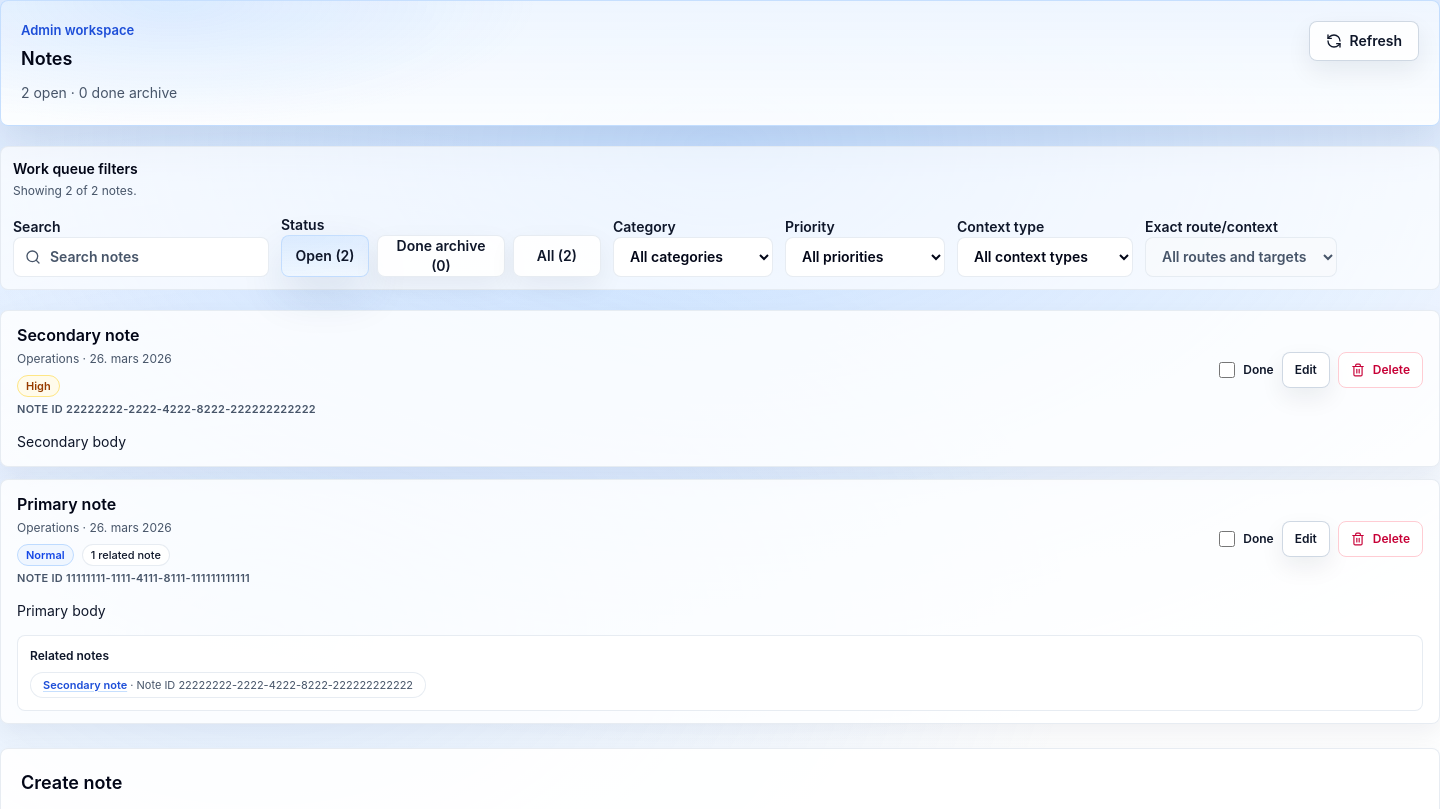
it: AdminNotesManager related note links › lets admins jump to a linked note by clicking only the linked title
The width and height of the screenshot is (1440, 809).
Expected: the list item with test id "admin-note-item" that starts with "Primary note" is shown, x1=0 y1=478 x2=1439 y2=724
Click the button "Secondary note" at (85, 685), box x1=43 y1=676 x2=127 y2=693
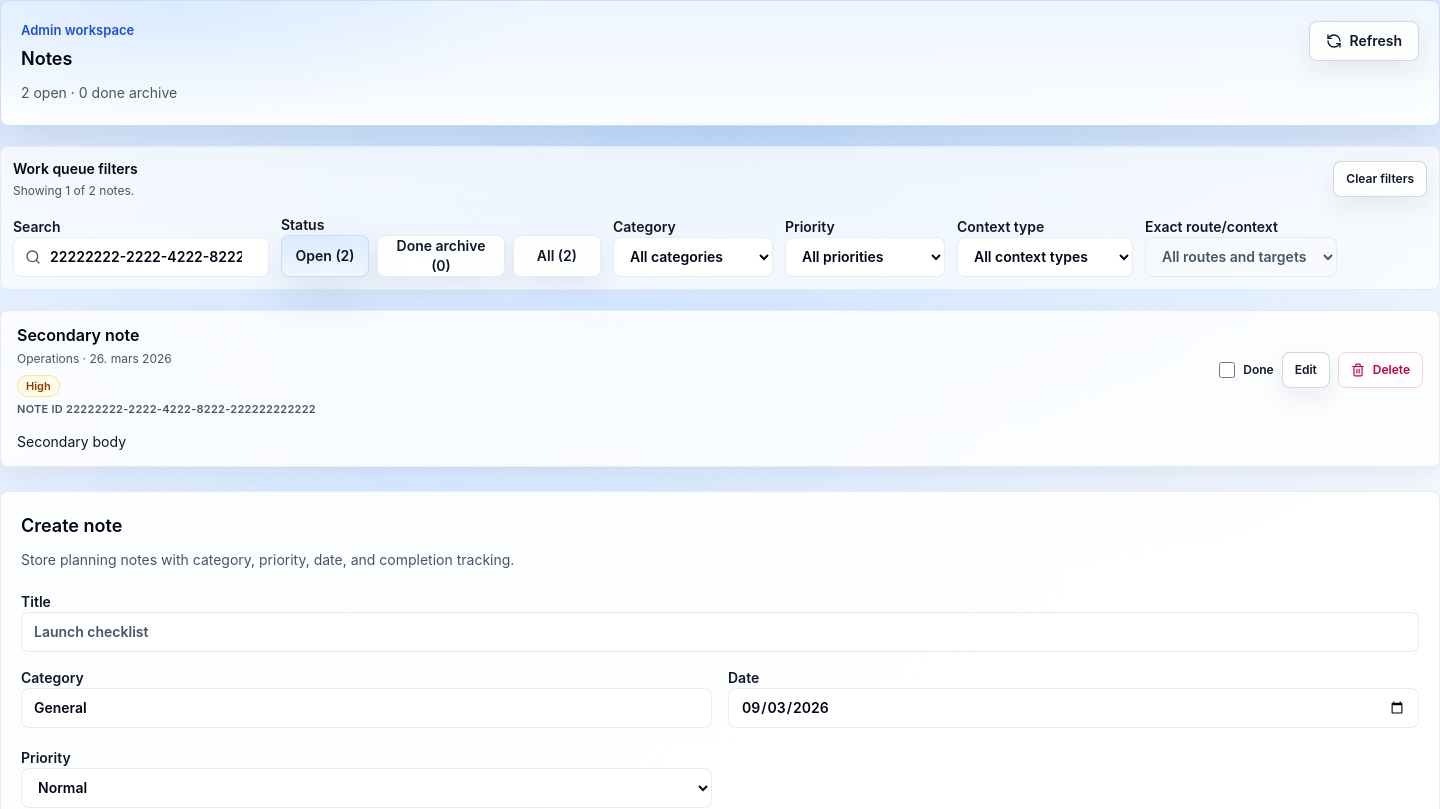
Now the search field with test id "admin-notes-search" holds "22222222-2222-4222-8222-222222222222", box x1=13 y1=236 x2=269 y2=276
Now the number of list items with test id "admin-note-item" is 1, box x1=0 y1=310 x2=1439 y2=466
Now the text "Primary note" is gone
